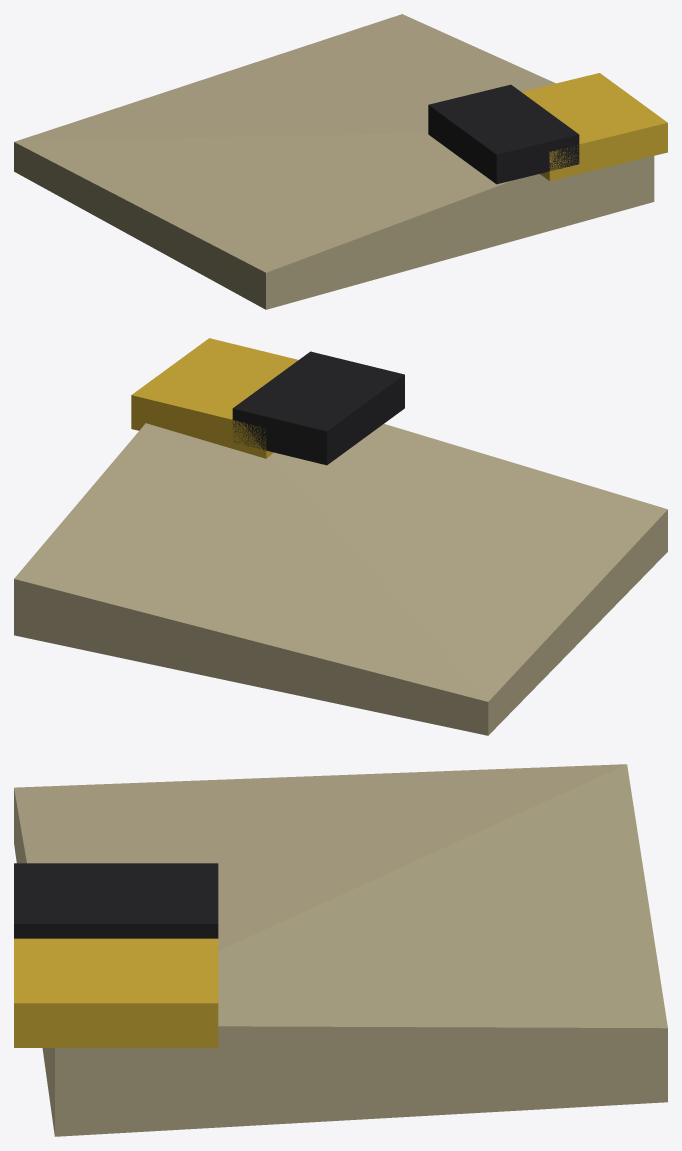
File: gib_metal_01.glb
3 renders of one model, top to bottom at view 1: azimuth 30°, elevation 25°; view 2: azimuth 150°, elevation 25°; view 3: azimuth 270°, elevation 25°, orthographic. The views are drawn at different scales.
Parts seen in each view (by area): view 1: gib_metal_01; view 2: gib_metal_01; view 3: gib_metal_01.
Boxes of the visible parts, x1,y1,x2,y2 form: gib_metal_01: (14, 14, 667, 309); gib_metal_01: (14, 338, 667, 735); gib_metal_01: (14, 764, 667, 1136).
Bounding box in the file's own units: 0.19 × 0.04 × 0.16.
